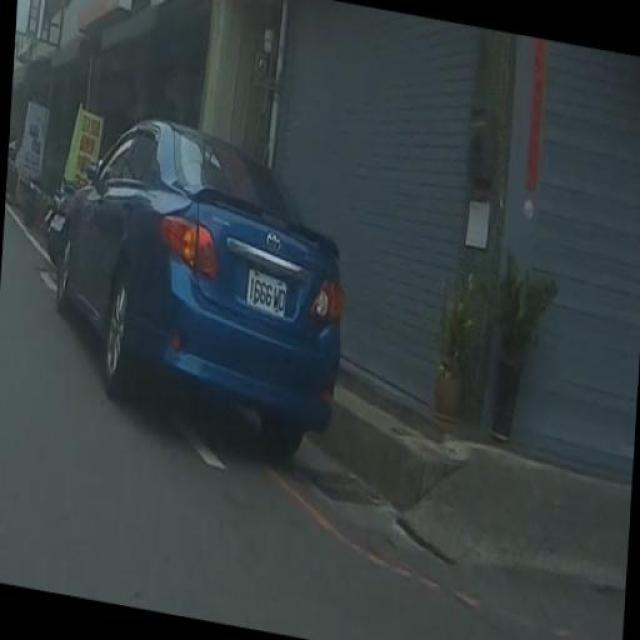illegalparking: (41, 101, 385, 479)
